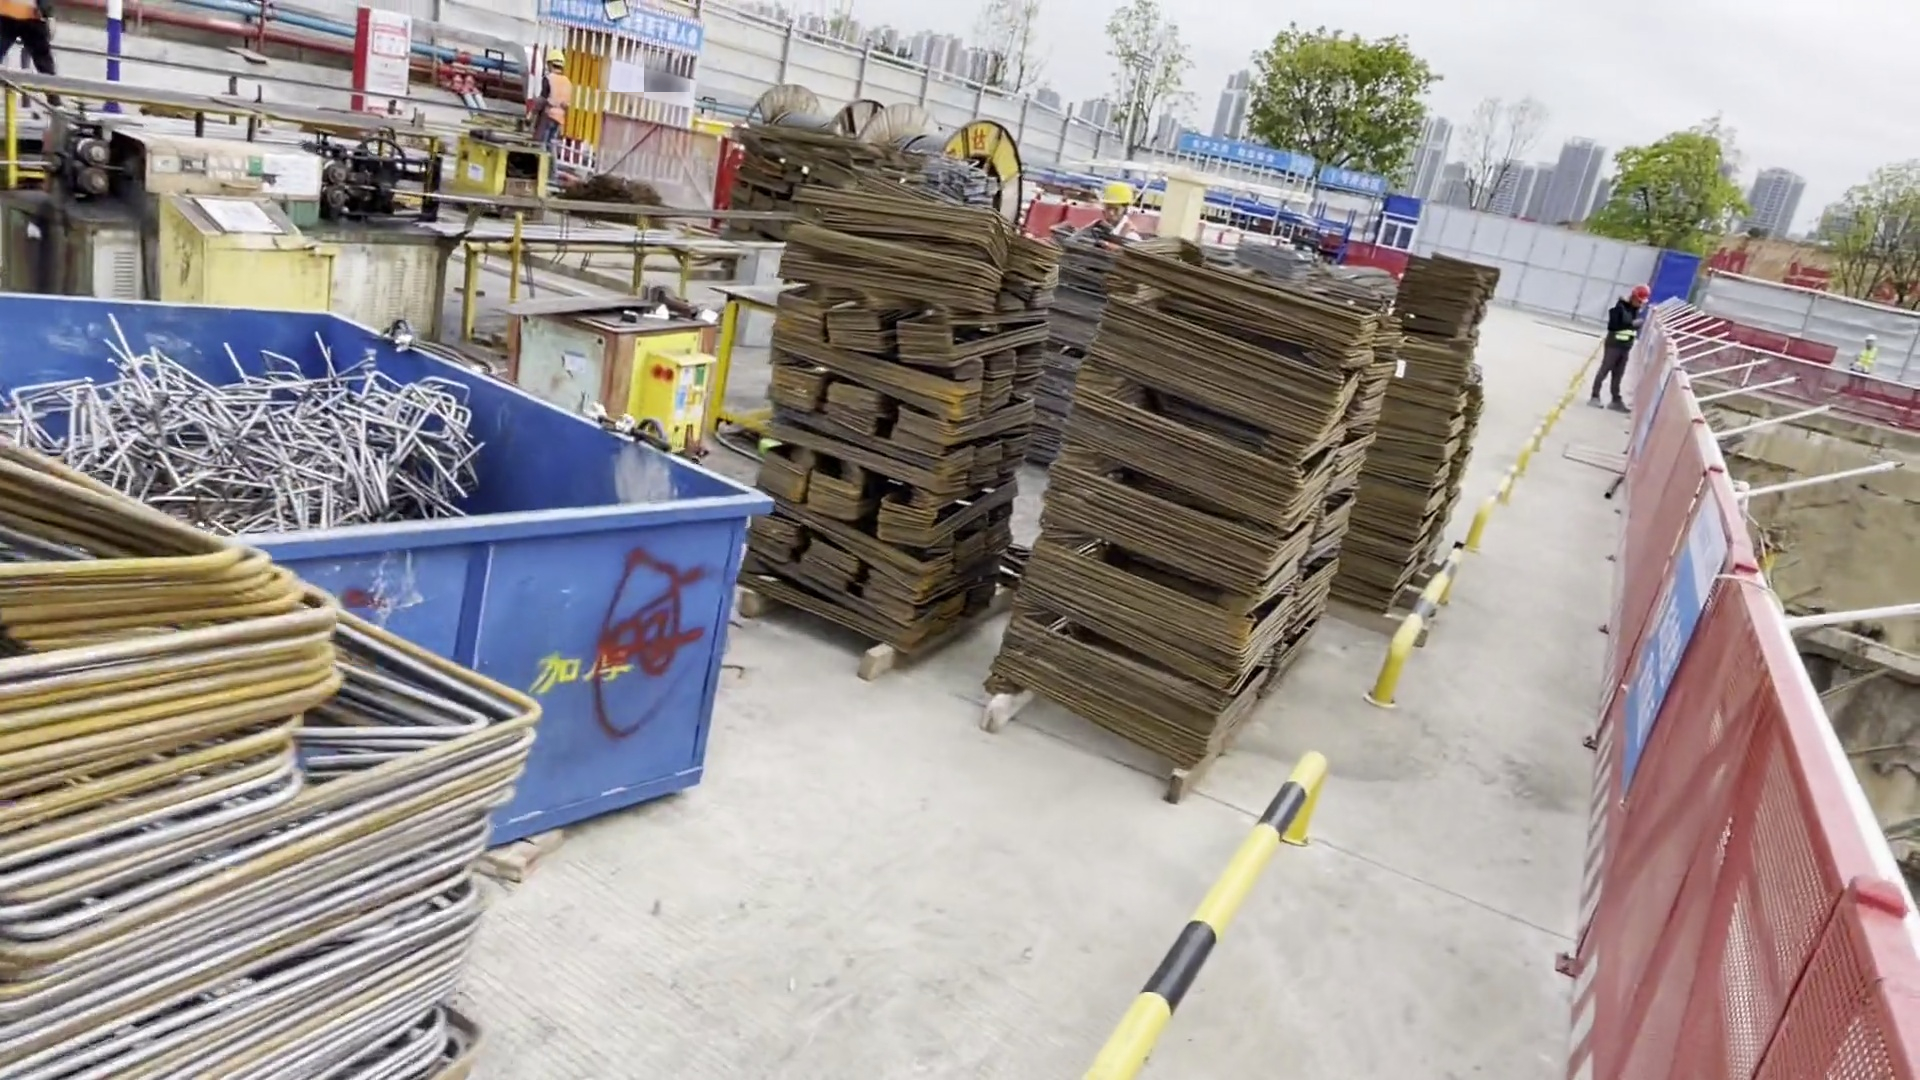cutter: (515, 287, 726, 433), (459, 128, 546, 207)
ebox: (1159, 169, 1201, 244)
fence: (1578, 340, 1914, 1080)
helmet: (1103, 179, 1132, 204), (545, 47, 567, 62), (1633, 283, 1648, 297)
hopper: (1, 293, 753, 864)
person: (1587, 285, 1654, 414), (3, 1, 68, 107), (530, 46, 567, 179), (1091, 174, 1136, 250), (1840, 334, 1874, 399)
slogan: (1624, 476, 1732, 782), (1179, 130, 1376, 196), (549, 1, 687, 51)
vest: (536, 67, 565, 126)
